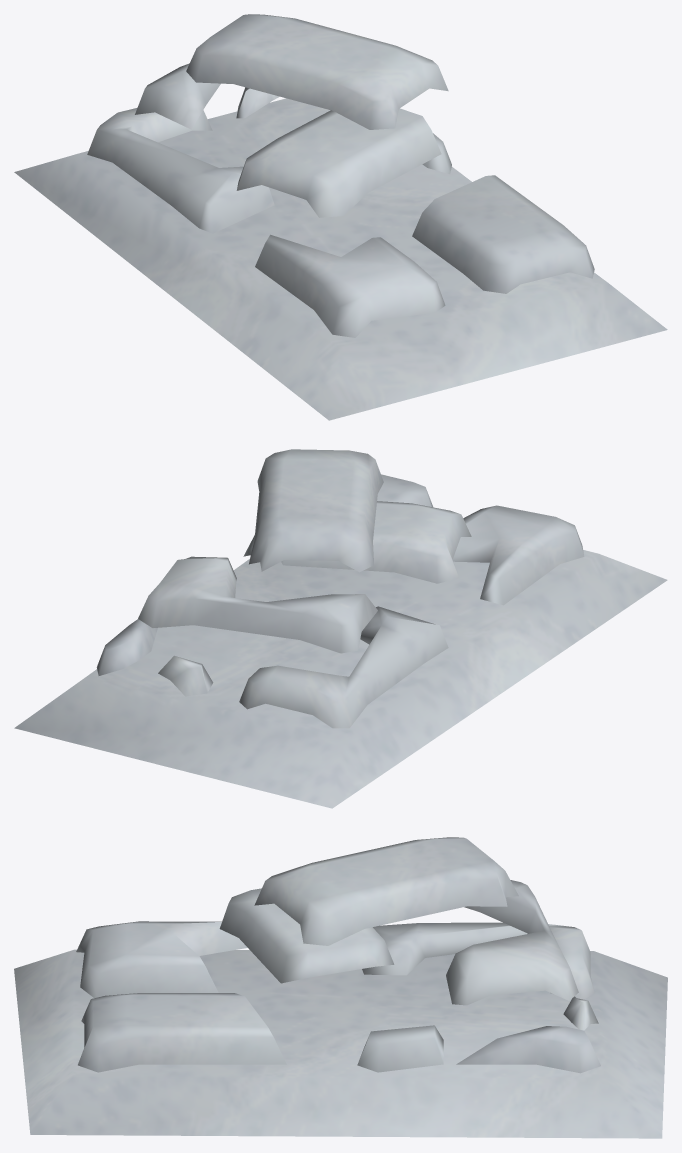
Rendered from Sack_Stack_Snow.fbx.
3 views of the same model, one above another, from view 1: azimuth 30°, elevation 25°; view 2: azimuth 150°, elevation 25°; view 3: azimuth 270°, elevation 25° (orthographic). The views are drawn at different scales.
Visible parts, largest first — view 1: Sack_Stack_Snow; view 2: Sack_Stack_Snow; view 3: Sack_Stack_Snow.
Boxes of the visible parts, x1=… form: Sack_Stack_Snow: x1=14, y1=14, x2=667, y2=420; Sack_Stack_Snow: x1=14, y1=449, x2=667, y2=808; Sack_Stack_Snow: x1=14, y1=837, x2=667, y2=1138.
Size of the model in its own units: 131 by 67.54 by 214.
